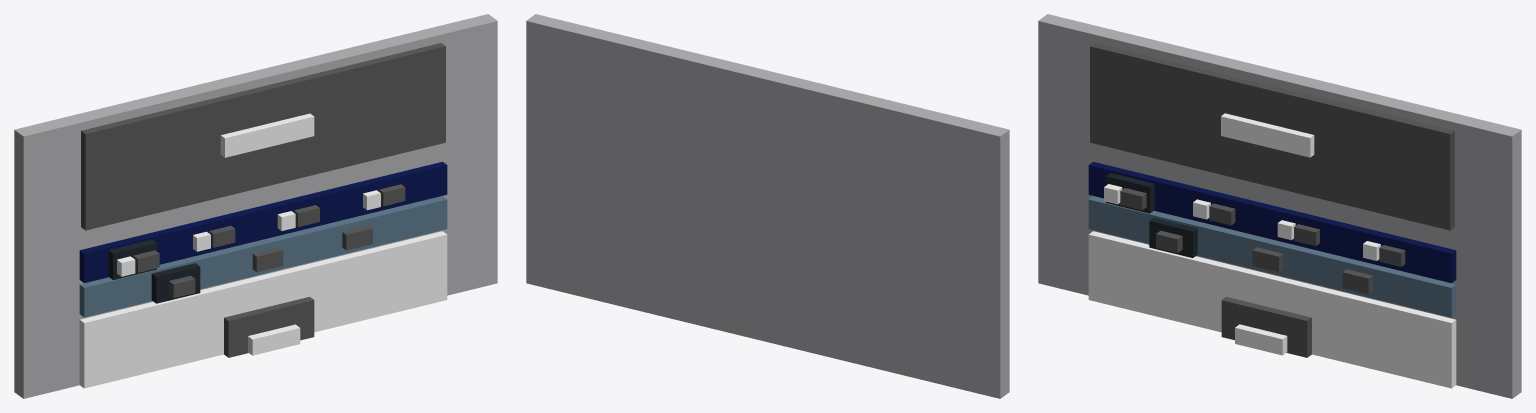
Rendered from iicEvents.glb.
The picture shows the model from 3 angles, left to right: view 1: azimuth 30°, elevation 25°; view 2: azimuth 150°, elevation 25°; view 3: azimuth 330°, elevation 25°; orthographic projection.
Visible parts, largest first — view 1: Cube, Cube.001, Cube.004, Cube.003, Cube.002, Cube.005, Cube.019, Cube.018, Cube.020, Cube.010, Cube.007, Cube.008 (+5 smaller); view 2: Cube; view 3: Cube, Cube.001, Cube.004, Cube.003, Cube.002, Cube.005, Cube.019, Cube.020, Cube.018, Cube.010, Cube.007, Cube.008 (+5 smaller).
Boxes of the visible parts, left/top/right/bottom form: Cube: left=14, top=14, right=497, bottom=398; Cube.001: left=81, top=43, right=445, bottom=230; Cube.004: left=79, top=231, right=447, bottom=388; Cube.003: left=79, top=196, right=447, bottom=317; Cube.002: left=79, top=161, right=447, bottom=283; Cube.005: left=224, top=296, right=314, bottom=357; Cube.019: left=220, top=113, right=314, bottom=157; Cube.018: left=151, top=263, right=200, bottom=303; Cube.020: left=248, top=324, right=300, bottom=355; Cube.010: left=108, top=239, right=156, bottom=279; Cube.007: left=252, top=247, right=283, bottom=272; Cube.008: left=342, top=225, right=372, bottom=250; Cube: left=526, top=14, right=1009, bottom=398; Cube: left=1038, top=14, right=1521, bottom=398; Cube.001: left=1090, top=43, right=1454, bottom=230; Cube.004: left=1088, top=231, right=1456, bottom=388; Cube.003: left=1088, top=196, right=1456, bottom=317; Cube.002: left=1088, top=161, right=1456, bottom=283; Cube.005: left=1221, top=296, right=1311, bottom=357; Cube.019: left=1221, top=113, right=1314, bottom=157; Cube.020: left=1235, top=324, right=1287, bottom=355; Cube.018: left=1149, top=217, right=1197, bottom=257; Cube.010: left=1106, top=173, right=1154, bottom=213; Cube.007: left=1252, top=247, right=1283, bottom=272; Cube.008: left=1342, top=269, right=1372, bottom=293.
Size of the model in its own units: 20.39 by 10.78 by 1.9.
